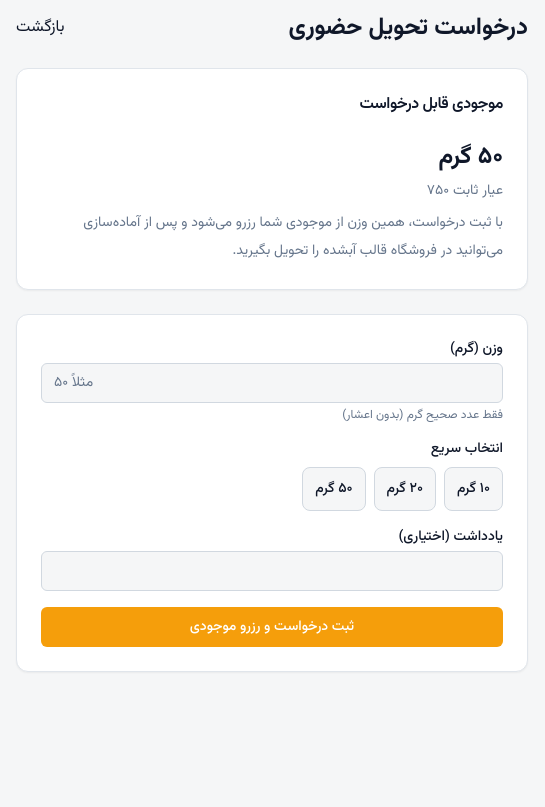
Test: NewPickupPage fee preview › shows the conversion fee and wallet balance once a weight is entered
This screenshot has width=545, height=807.
Type "10" into the field labelled "وزن (گرم)".
click(272, 383); type("10")  # box [41,363,503,403]
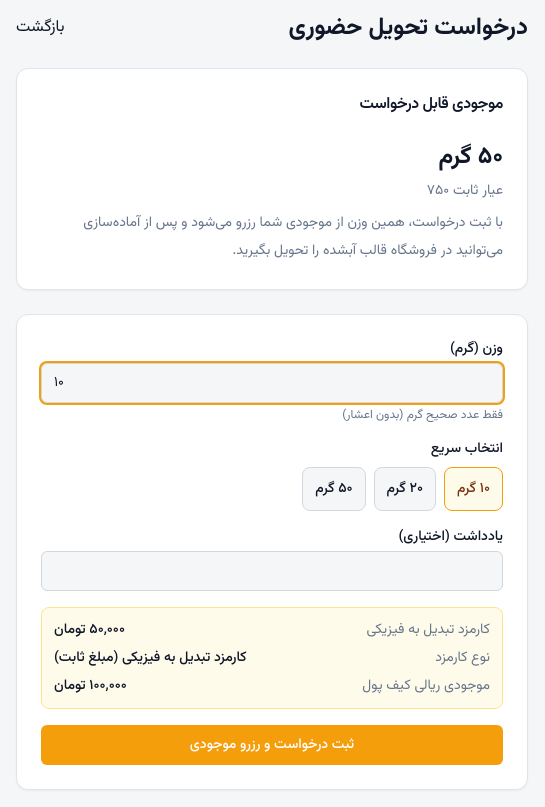
expect the button "ثبت درخواست و رزرو موجودی" is enabled: met, box [41,725,503,765]
expect the text "موجودی ریالی کیف پول" is shown: met, box [362,676,490,696]
expect the text "کارمزد تبدیل به فیزیکی (مبلغ ثابت)" is shown: met, box [54,648,247,668]
